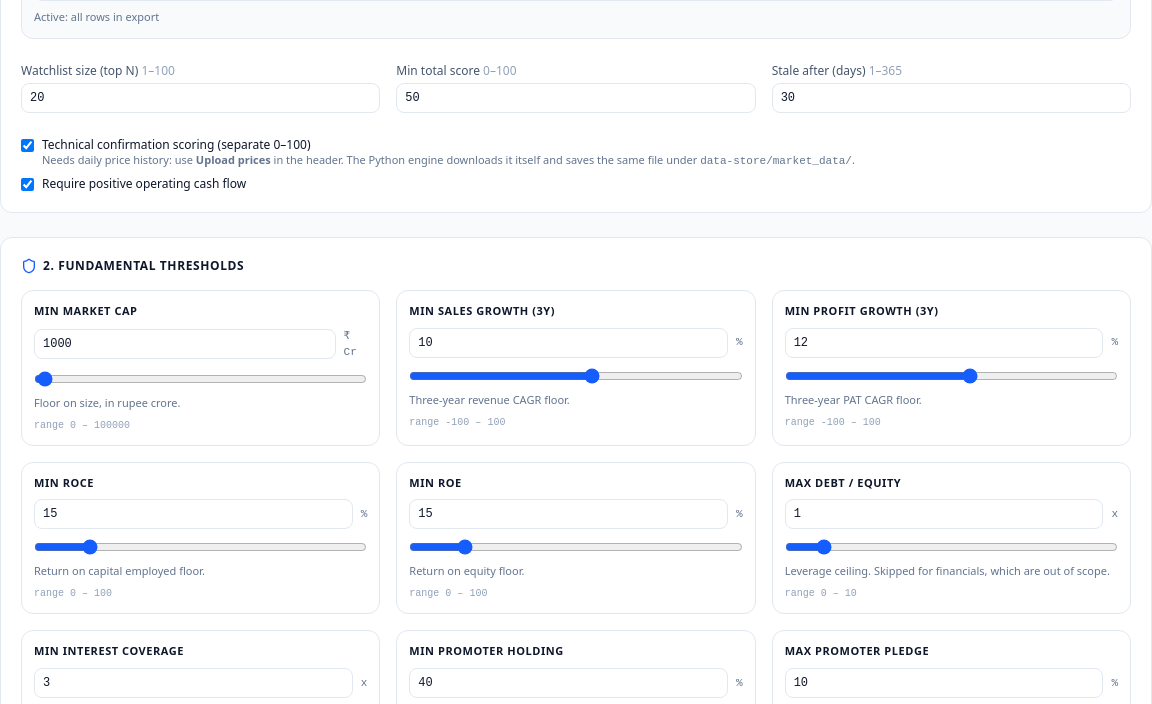
Config panel inputs › says when a typed value is outside the allowed range
(page scrolled)
Step 1. Replace the text in the number field labelled "Min market cap" with "150000" → x=185, y=344, box [34,329,336,359]
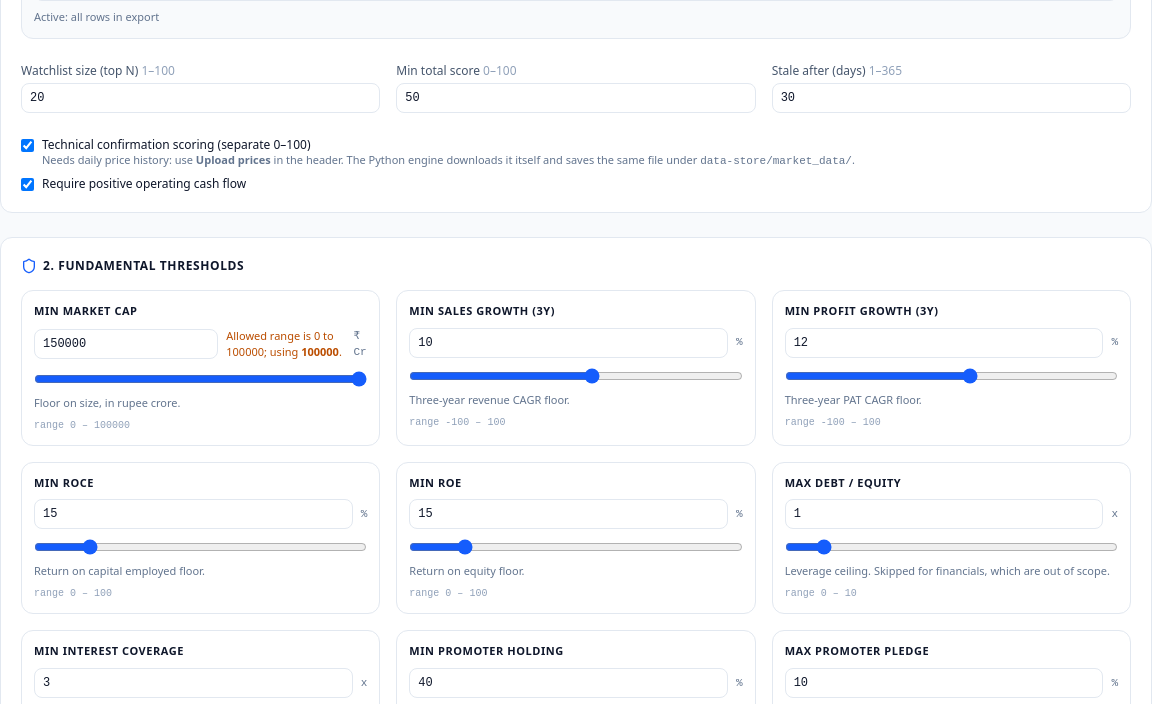
Result: the message with test id "cfg-minMarketCapCr-clamped" shows "Allowed range is 0 to 100000; using 100000" at [226,328,345,361]
Step 2. Replace the text in the number field labelled "Min market cap" with "5000" → x=126, y=344, box [34,329,218,359]
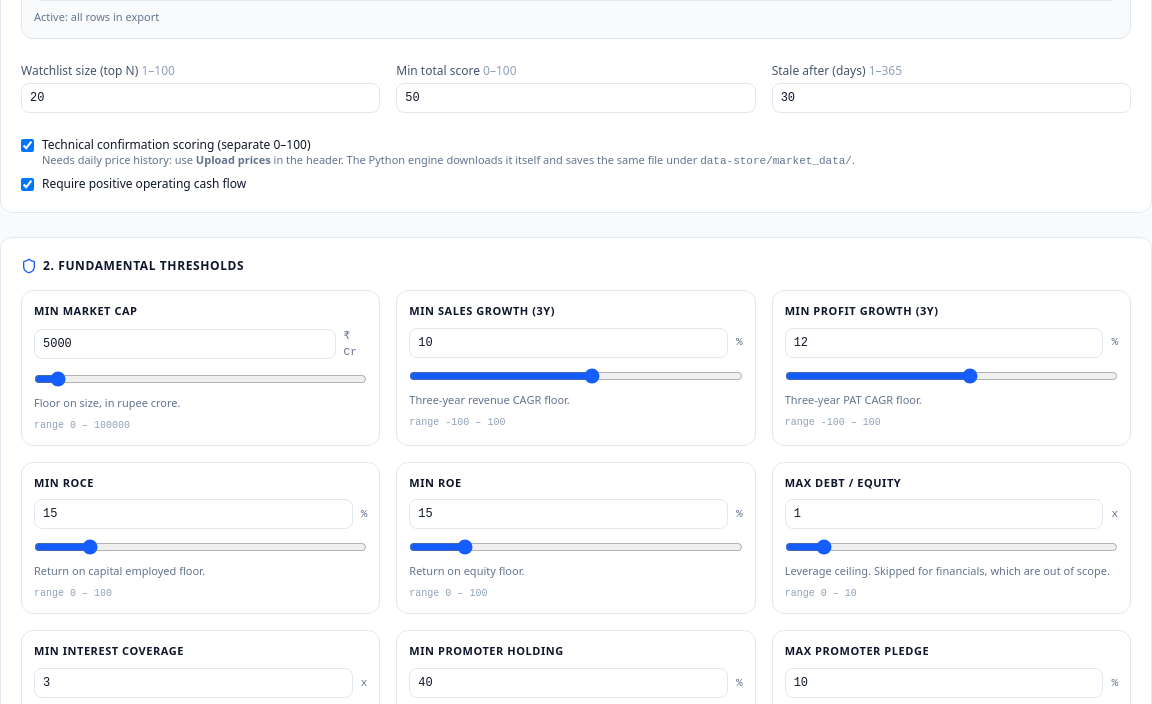
Result: the message with test id "cfg-minMarketCapCr-clamped" is gone
